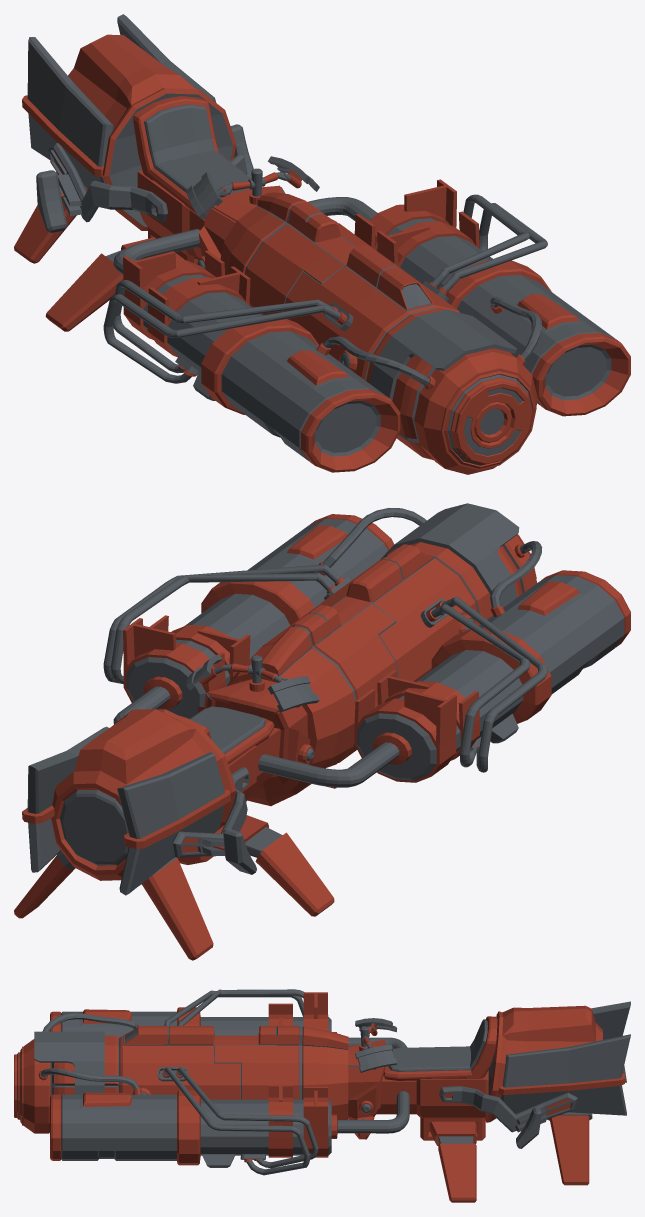
Rendered from Personal_Vehicle_04_Red.fbx.
3 renders of one model, top to bottom at view 1: azimuth 30°, elevation 25°; view 2: azimuth 150°, elevation 25°; view 3: azimuth 270°, elevation 25°, orthographic. The views are drawn at different scales.
Parts seen in each view (by area): view 1: Personal_Vehicle_04_Red; view 2: Personal_Vehicle_04_Red; view 3: Personal_Vehicle_04_Red.
Boxes of the visible parts, x1=… form: Personal_Vehicle_04_Red: x1=14, y1=14, x2=630, y2=474; Personal_Vehicle_04_Red: x1=14, y1=503, x2=630, y2=960; Personal_Vehicle_04_Red: x1=14, y1=989, x2=630, y2=1202.
Bounding box in the file's own units: 233 × 115 × 439.
Materials: 2 (2 with a texture image).
